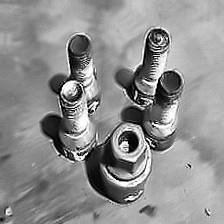tiny_holes: (201, 204, 214, 219), (3, 205, 14, 220), (184, 161, 196, 172)
